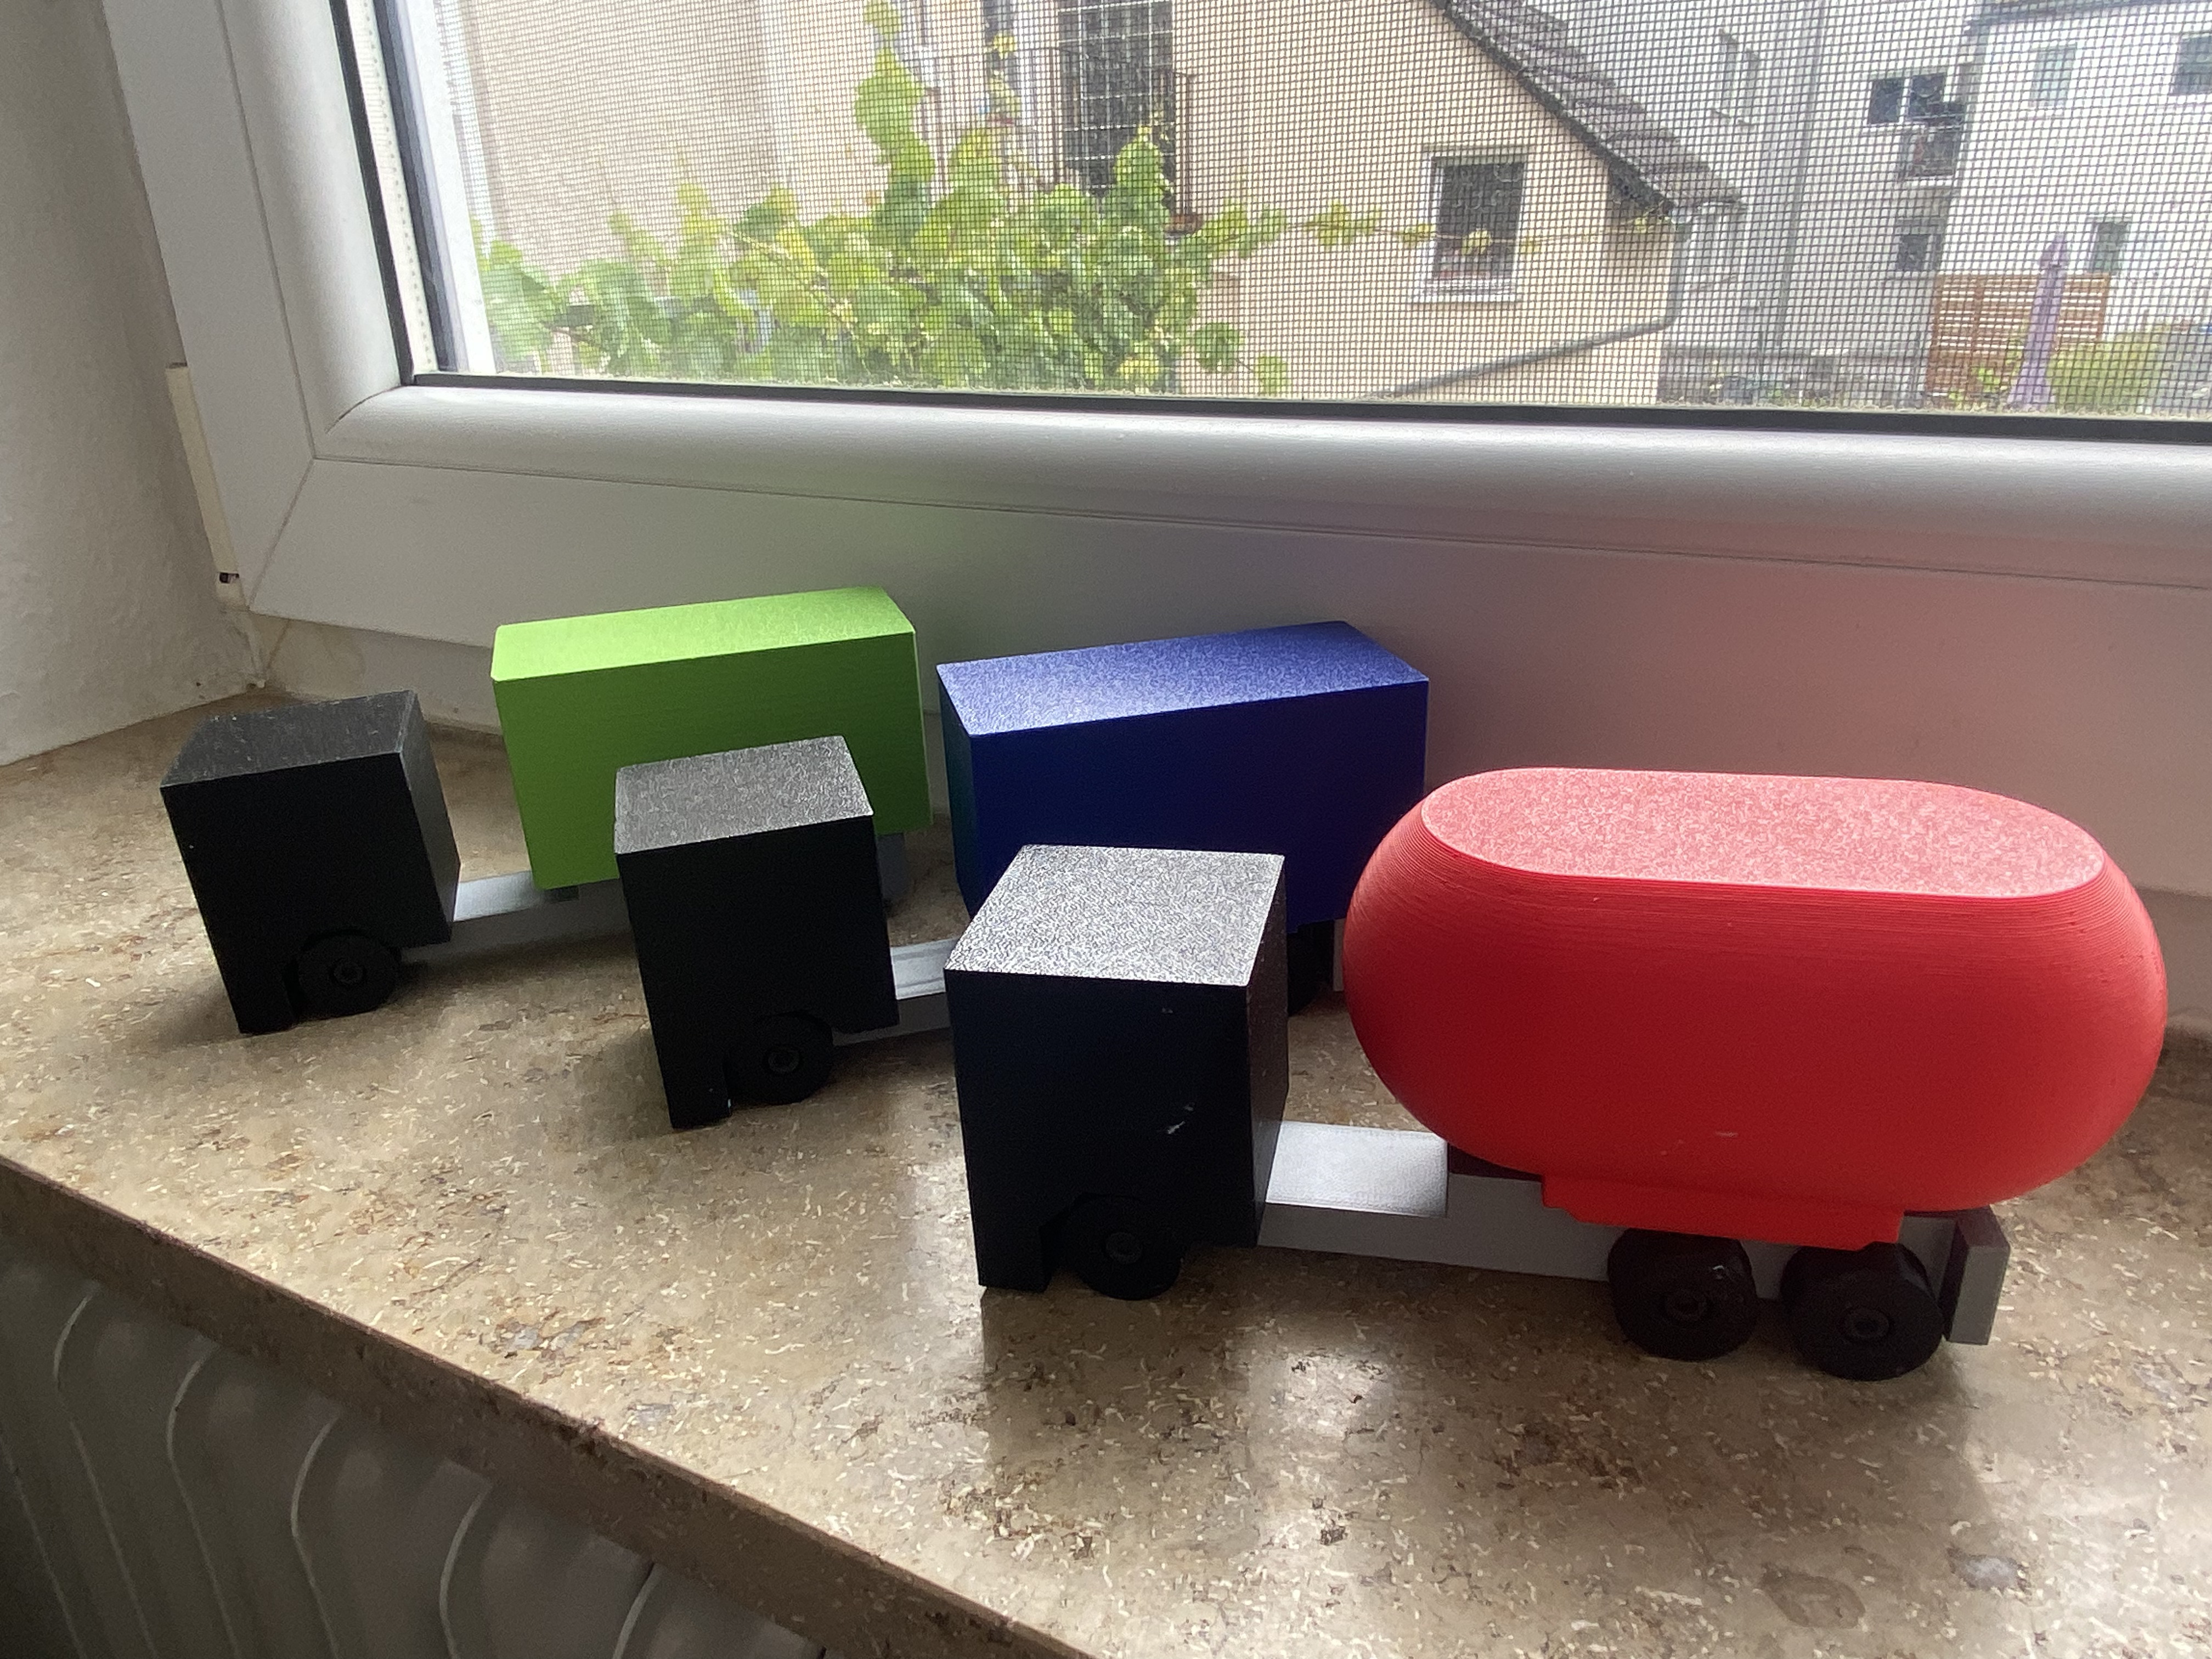blue_truck: (573, 653, 1440, 1061)
green_truck: (134, 620, 946, 971)
red_truck: (949, 758, 2179, 1396)
